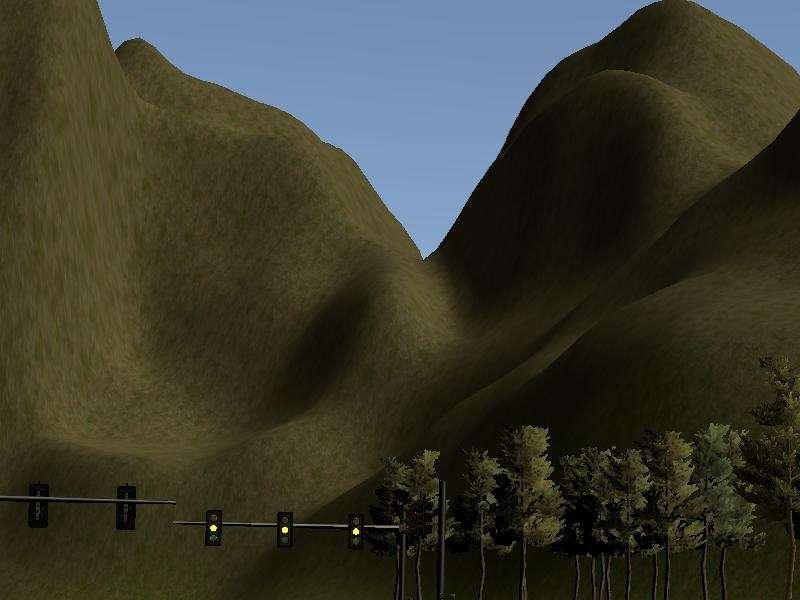yellow: (274, 511, 296, 550), (348, 511, 366, 550), (206, 511, 221, 544)
